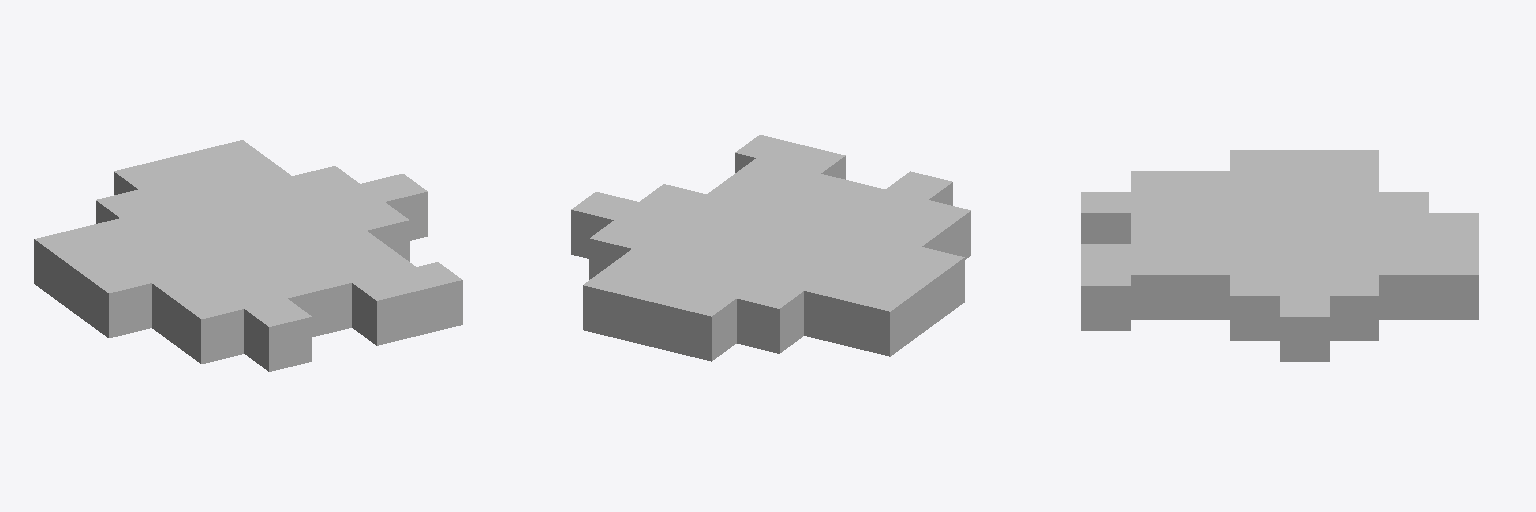
Rendered from cloud0.obj.
3 renders of one model, left to right at view 1: azimuth 30°, elevation 25°; view 2: azimuth 150°, elevation 25°; view 3: azimuth 270°, elevation 25°, orthographic.
Visible parts, largest first — view 1: Cube.007; view 2: Cube.007; view 3: Cube.007.
Part boxes in pixels (x1,y1,x2,y2): Cube.007: (34,140,462,371); Cube.007: (571,135,970,361); Cube.007: (1081,150,1478,361).
Bounding box in the file's own units: 16 × 2 × 16.